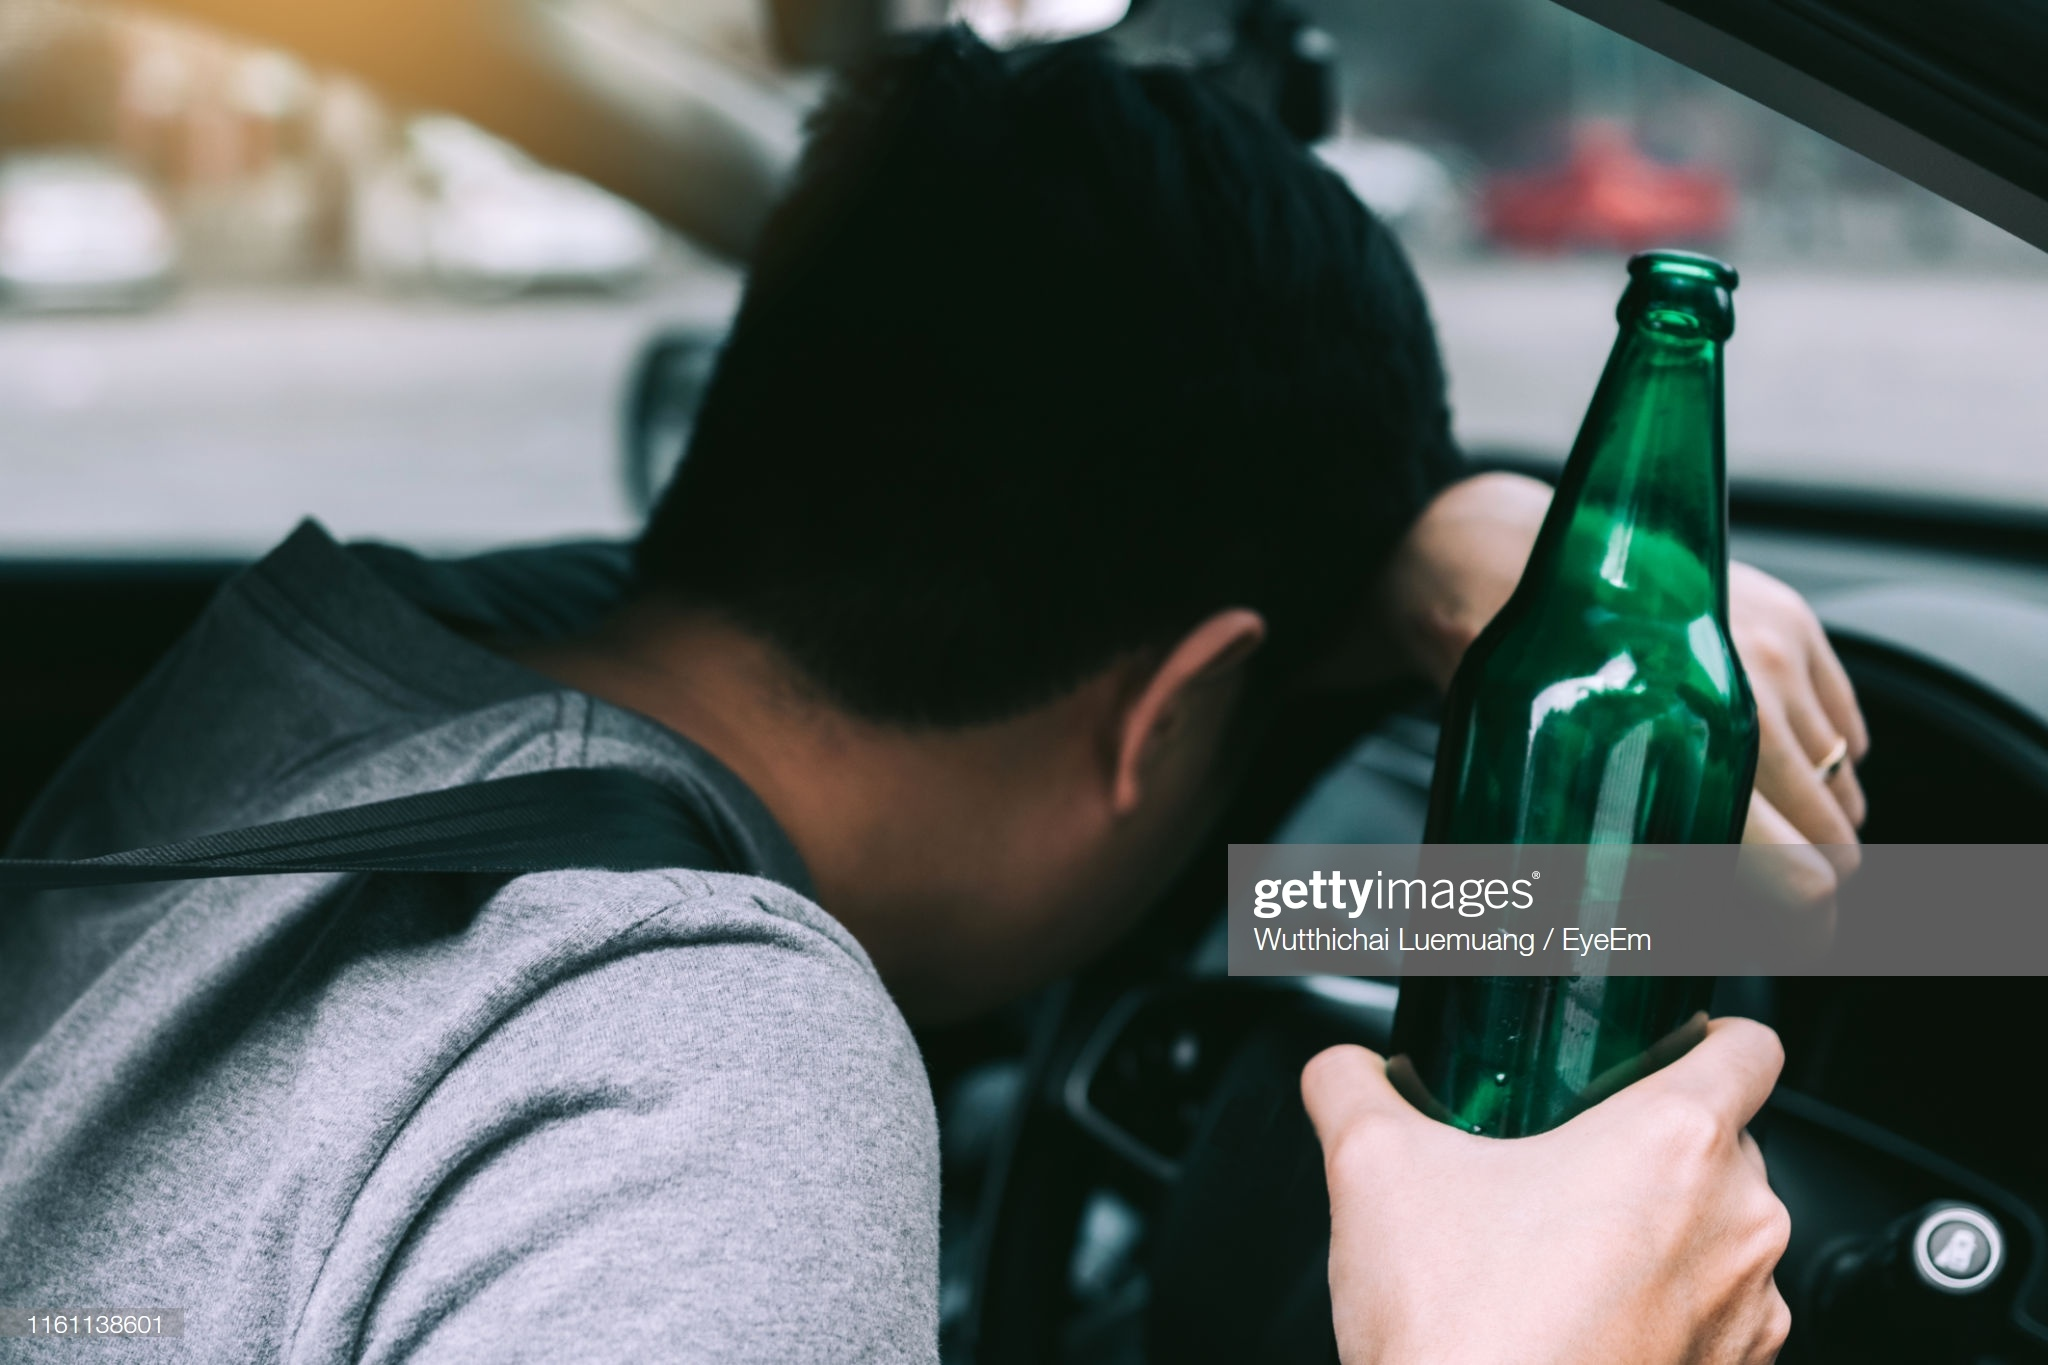beerBottle: (1398, 251, 1727, 1138)
